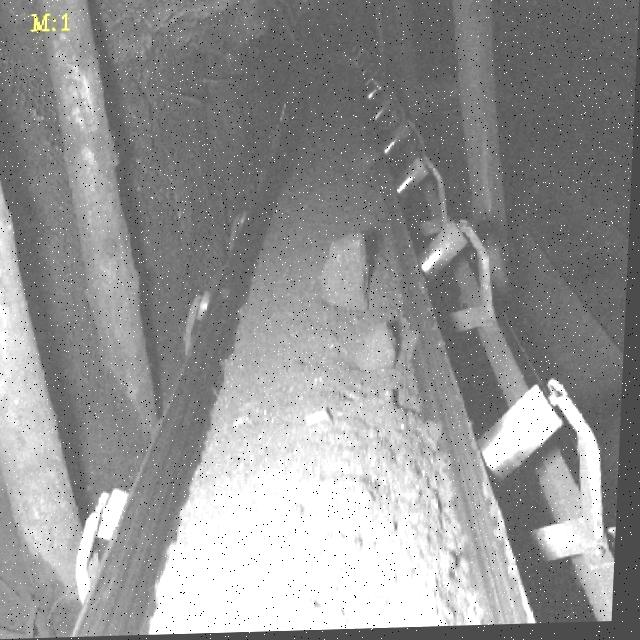large_sized_coal: (322, 233, 376, 318), (361, 328, 402, 376)
